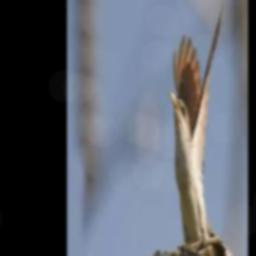Cuckoo: (168, 5, 243, 256)
